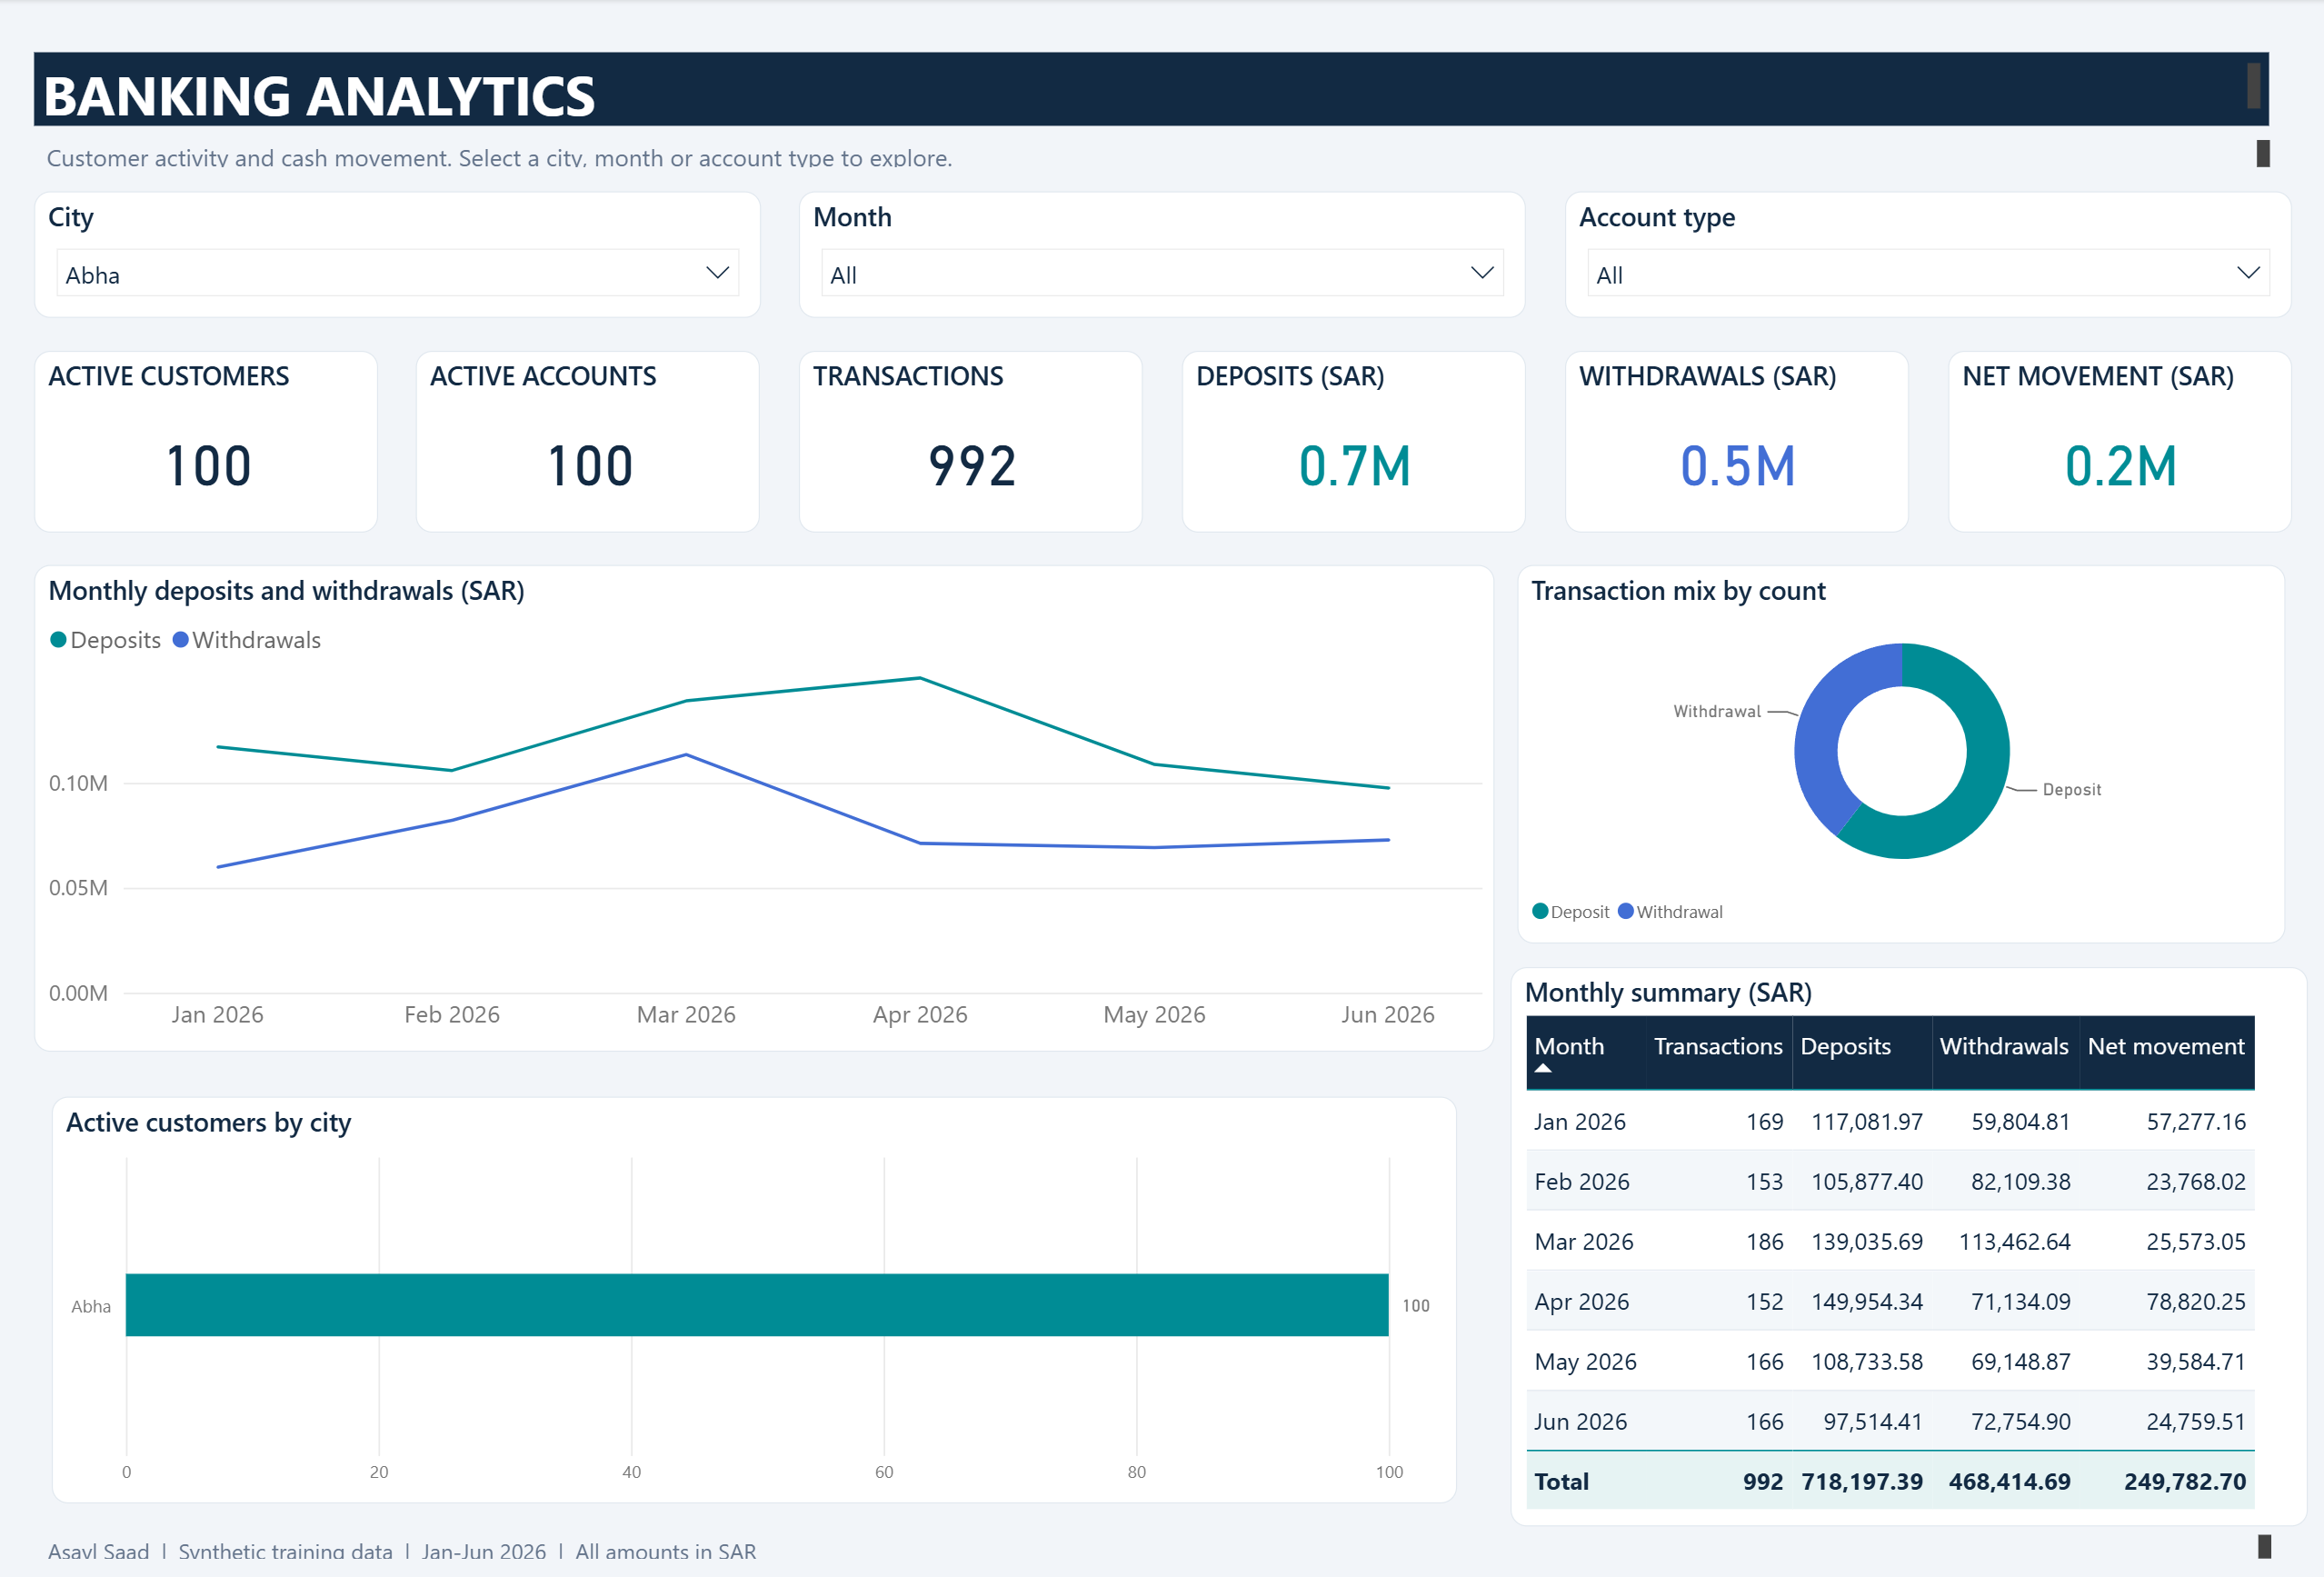

The page's visual inventory and layout, read from the dashboard file:
{"tool":"powerbi","page":{"name":"01  Overview","canvas":[1440,960],"ordinal":0},"visuals":[{"type":"textbox","box":[24.4,16,1377,45.4],"z":0},{"type":"textbox","box":[27,65,1380,27],"z":1000},{"type":"textbox","box":[28,924,1380,25],"z":2000},{"type":"slicer","title":"City","fields":{"Values":["Customers.City"]},"box":[24,102,448,78],"z":3000},{"type":"slicer","title":"Month","fields":{"Values":["Calendar.YearMonth"]},"box":[496,102,448,78],"z":4000},{"type":"slicer","title":"Account type","fields":{"Values":["Accounts.AccountType"]},"box":[968,102,448,78],"z":5000},{"type":"card","title":"ACTIVE CUSTOMERS","fields":{"Values":["Transactions.Active Customers"]},"box":[24,200,212,112],"z":6000},{"type":"card","title":"ACTIVE ACCOUNTS","fields":{"Values":["Transactions.Active Accounts"]},"box":[260,200,212,112],"z":7000},{"type":"card","title":"TRANSACTIONS","fields":{"Values":["Transactions.Total Transactions"]},"box":[496,200,212,112],"z":8000},{"type":"card","title":"DEPOSITS (SAR)","fields":{"Values":["Transactions.Total Deposits"]},"box":[732,200,212,112],"z":9000},{"type":"card","title":"WITHDRAWALS (SAR)","fields":{"Values":["Transactions.Total Withdrawals"]},"box":[968,200,212,112],"z":10000},{"type":"card","title":"NET MOVEMENT (SAR)","fields":{"Values":["Transactions.Net Movement"]},"box":[1204,200,212,112],"z":11000},{"type":"lineChart","title":"Monthly deposits and withdrawals (SAR)","fields":{"Category":["Calendar.YearMonth"],"Y":["Transactions.Total Deposits","Transactions.Total Withdrawals"]},"box":[24.4,331.9,899.8,299.9],"z":12000},{"type":"donutChart","title":"Transaction mix by count","fields":{"Category":["Transactions.TransactionType"],"Y":["Transactions.Total Transactions"]},"box":[938.4,331.9,473,233.6],"z":13000},{"type":"clusteredBarChart","title":"Active customers by city","fields":{"Category":["Customers.City"],"Y":["Transactions.Active Customers"]},"box":[35.3,659.5,866.2,250.4],"z":14000},{"type":"tableEx","title":"Monthly summary (SAR)","fields":{"Values":["Calendar.YearMonth","Transactions.Total Transactions","Transactions.Total Deposits","Transactions.Total Withdrawals","Transactions.Net Movement"]},"box":[934.2,579.7,491.5,344.5],"z":15000}]}

Visuals, with their boxes in screenshot pixels (x1, y1, x2, y2), scaled from the page's 1440x960 canvas onto the 2324x1577 screenshot:
textbox: 39/26/2261/101
textbox: 44/106/2270/151
textbox: 45/1518/2272/1559
"City" slicer: 39/167/762/295
"Month" slicer: 801/167/1523/295
"Account type" slicer: 1562/167/2285/295
"ACTIVE CUSTOMERS" card: 39/328/381/513
"ACTIVE ACCOUNTS" card: 420/328/762/513
"TRANSACTIONS" card: 801/328/1142/513
"DEPOSITS (SAR)" card: 1182/328/1523/513
"WITHDRAWALS (SAR)" card: 1562/328/1904/513
"NET MOVEMENT (SAR)" card: 1943/328/2285/513
"Monthly deposits and withdrawals (SAR)" lineChart: 39/545/1491/1038
"Transaction mix by count" donutChart: 1514/545/2278/929
"Active customers by city" clusteredBarChart: 57/1083/1455/1494
"Monthly summary (SAR)" tableEx: 1508/953/2301/1518
